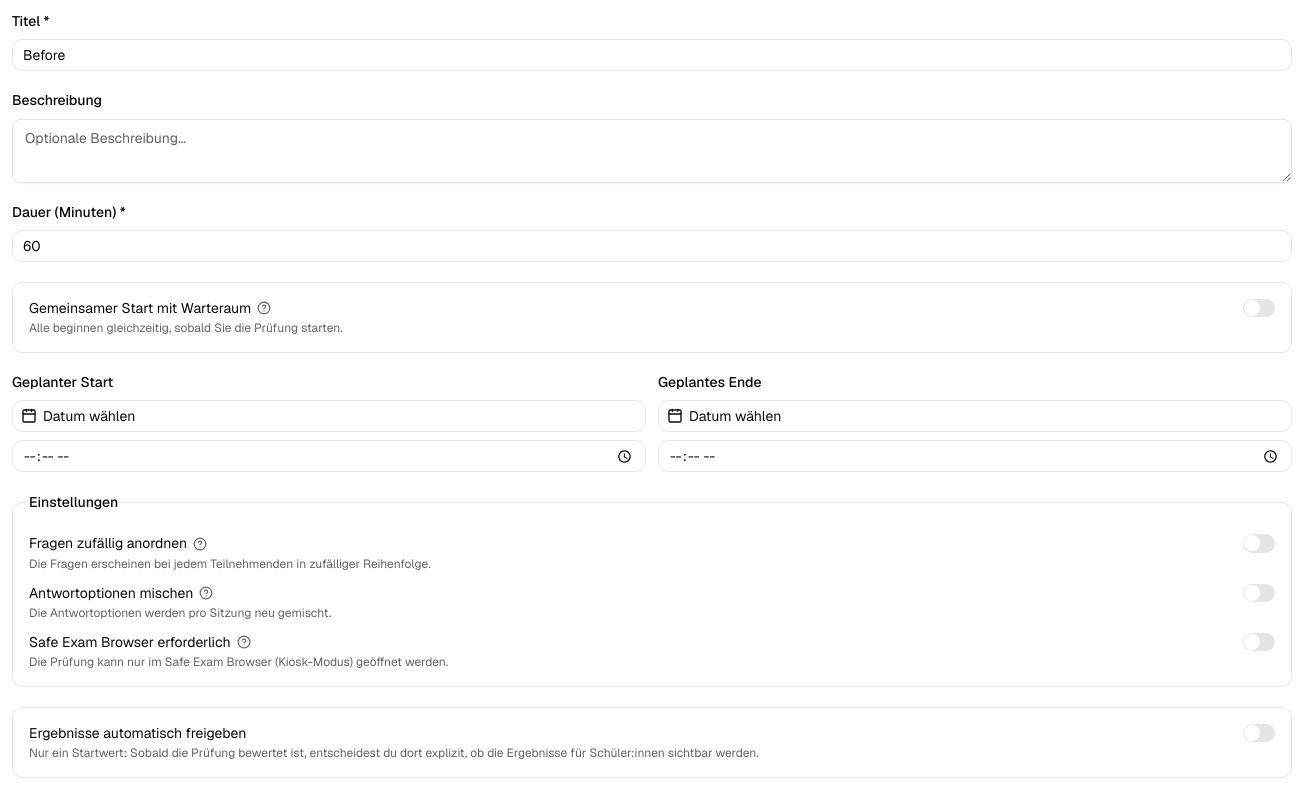
Test case: does not report a save error for a validation-only failure
The width and height of the screenshot is (1304, 812).
Replace the text in the field labelled "Titel *" with "After" at (652, 55), box [12, 39, 1292, 71]
Wait 700 ms
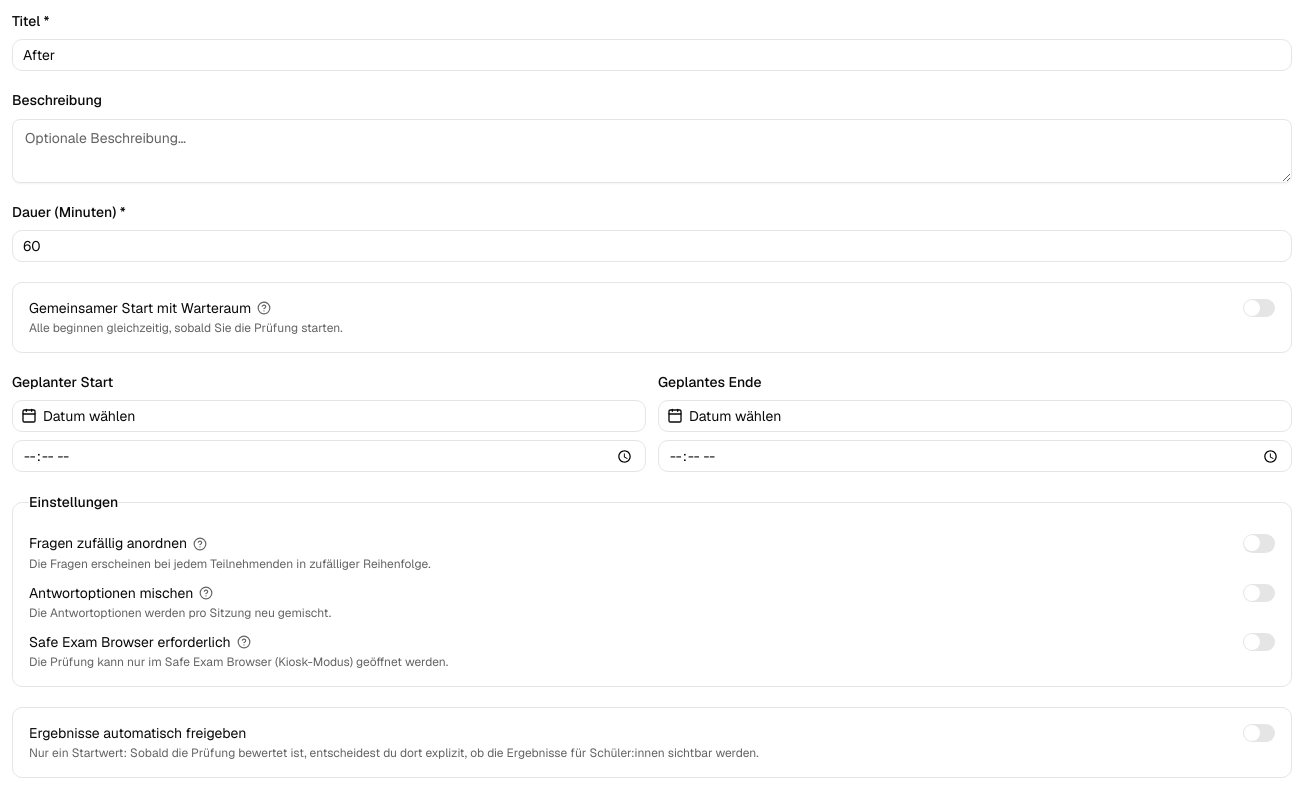
Clear the field labelled "Titel *" at (652, 55), box [12, 39, 1292, 71]
Wait 700 ms
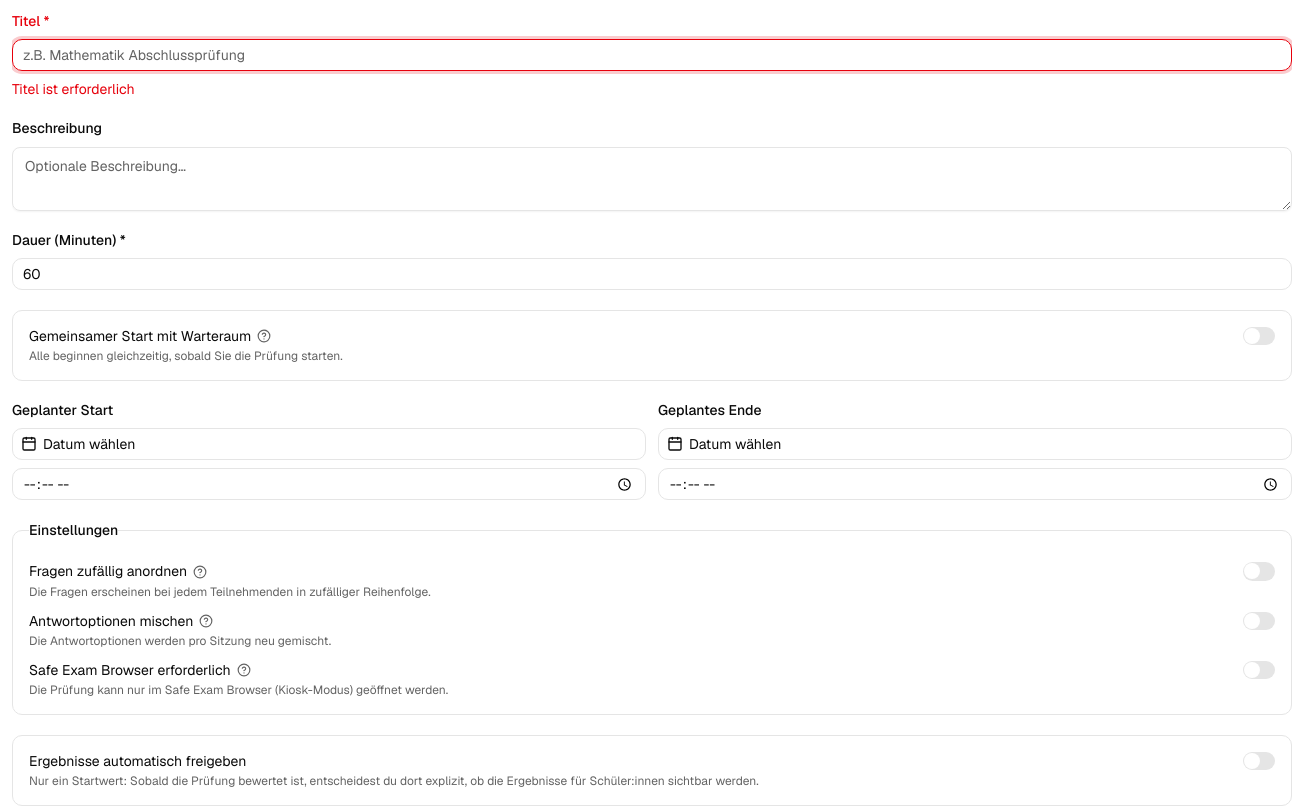
Check: the text "Titel ist erforderlich" is shown, box [12, 80, 135, 98]
